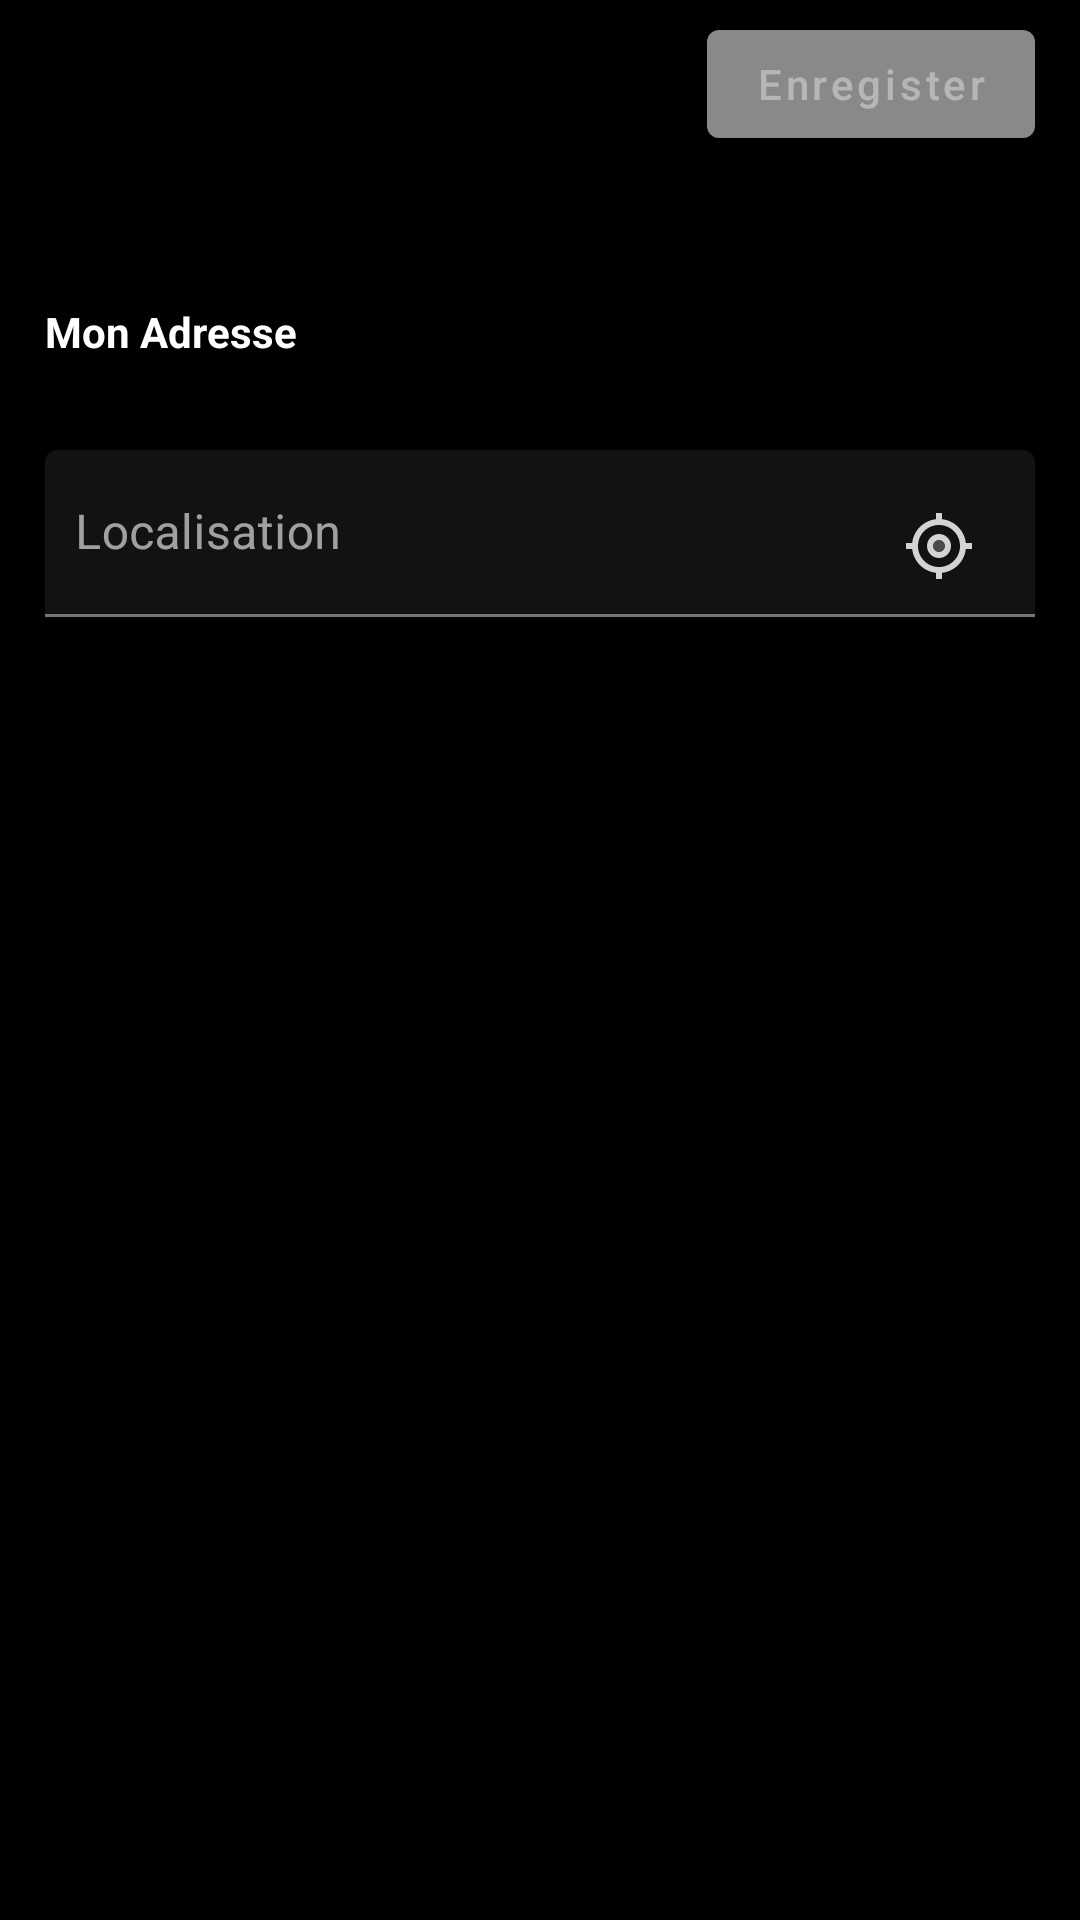

Point at icon controls on the screen. Image size 1080 x 1920, points as (x,y).
location: (939,546)
